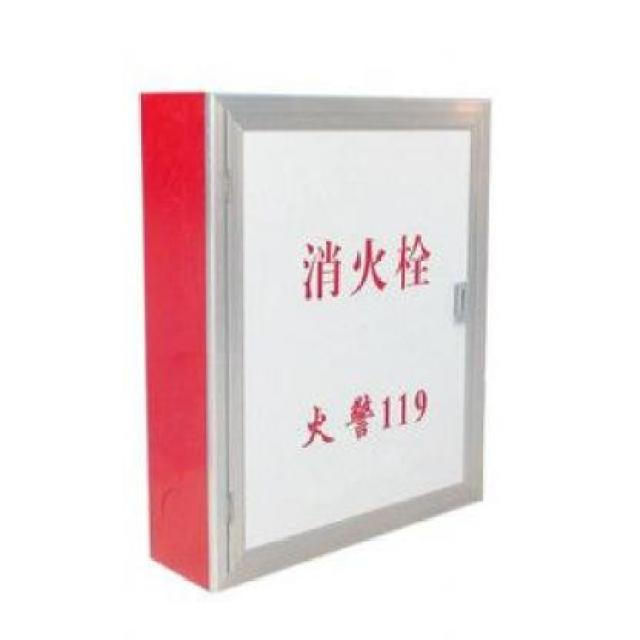firehydrant: (134, 83, 496, 599)
